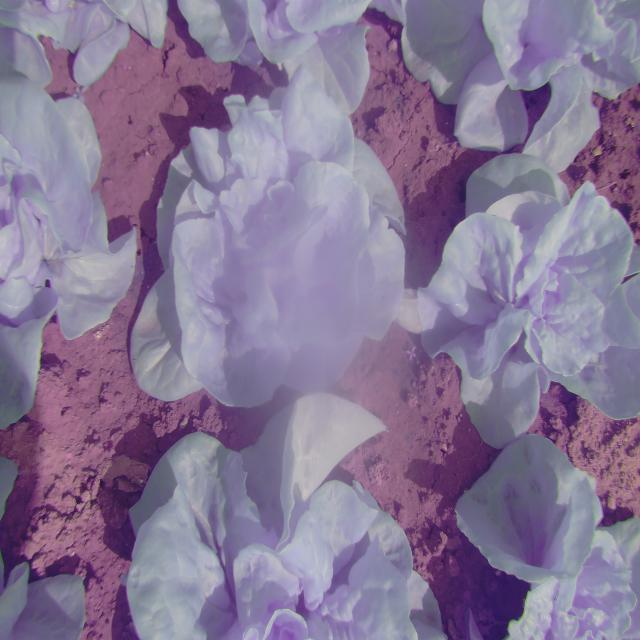vege: (130, 72, 410, 409)
